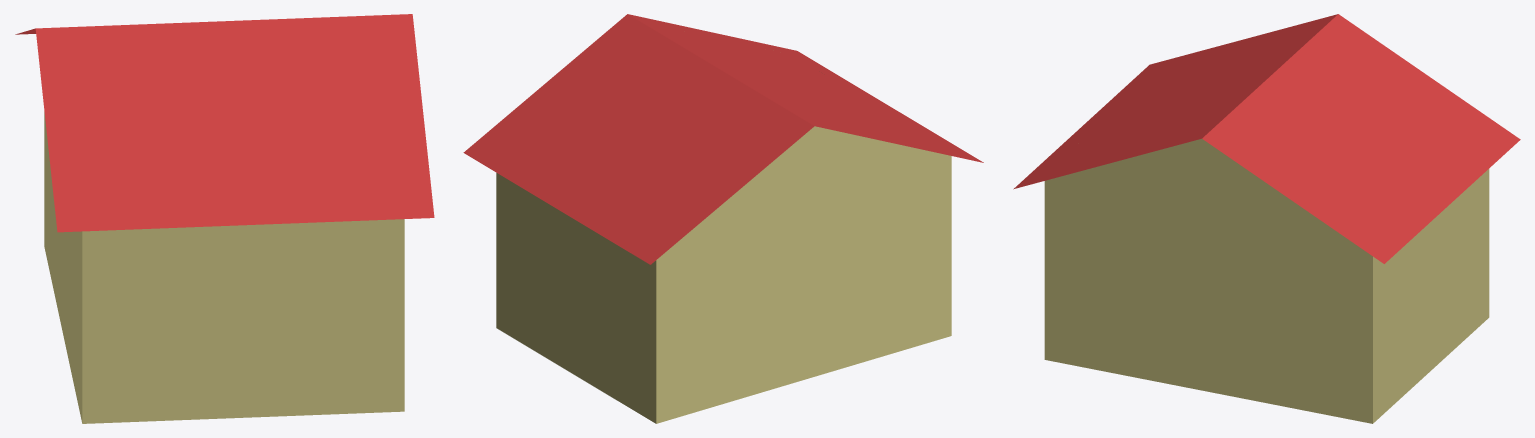
The picture shows the model from 3 angles, left to right: view 1: azimuth 30°, elevation 25°; view 2: azimuth 150°, elevation 25°; view 3: azimuth 270°, elevation 25°; orthographic projection. The views are drawn at different scales.
Size of the model in its own units: 19.77 by 21.5 by 12.29.
